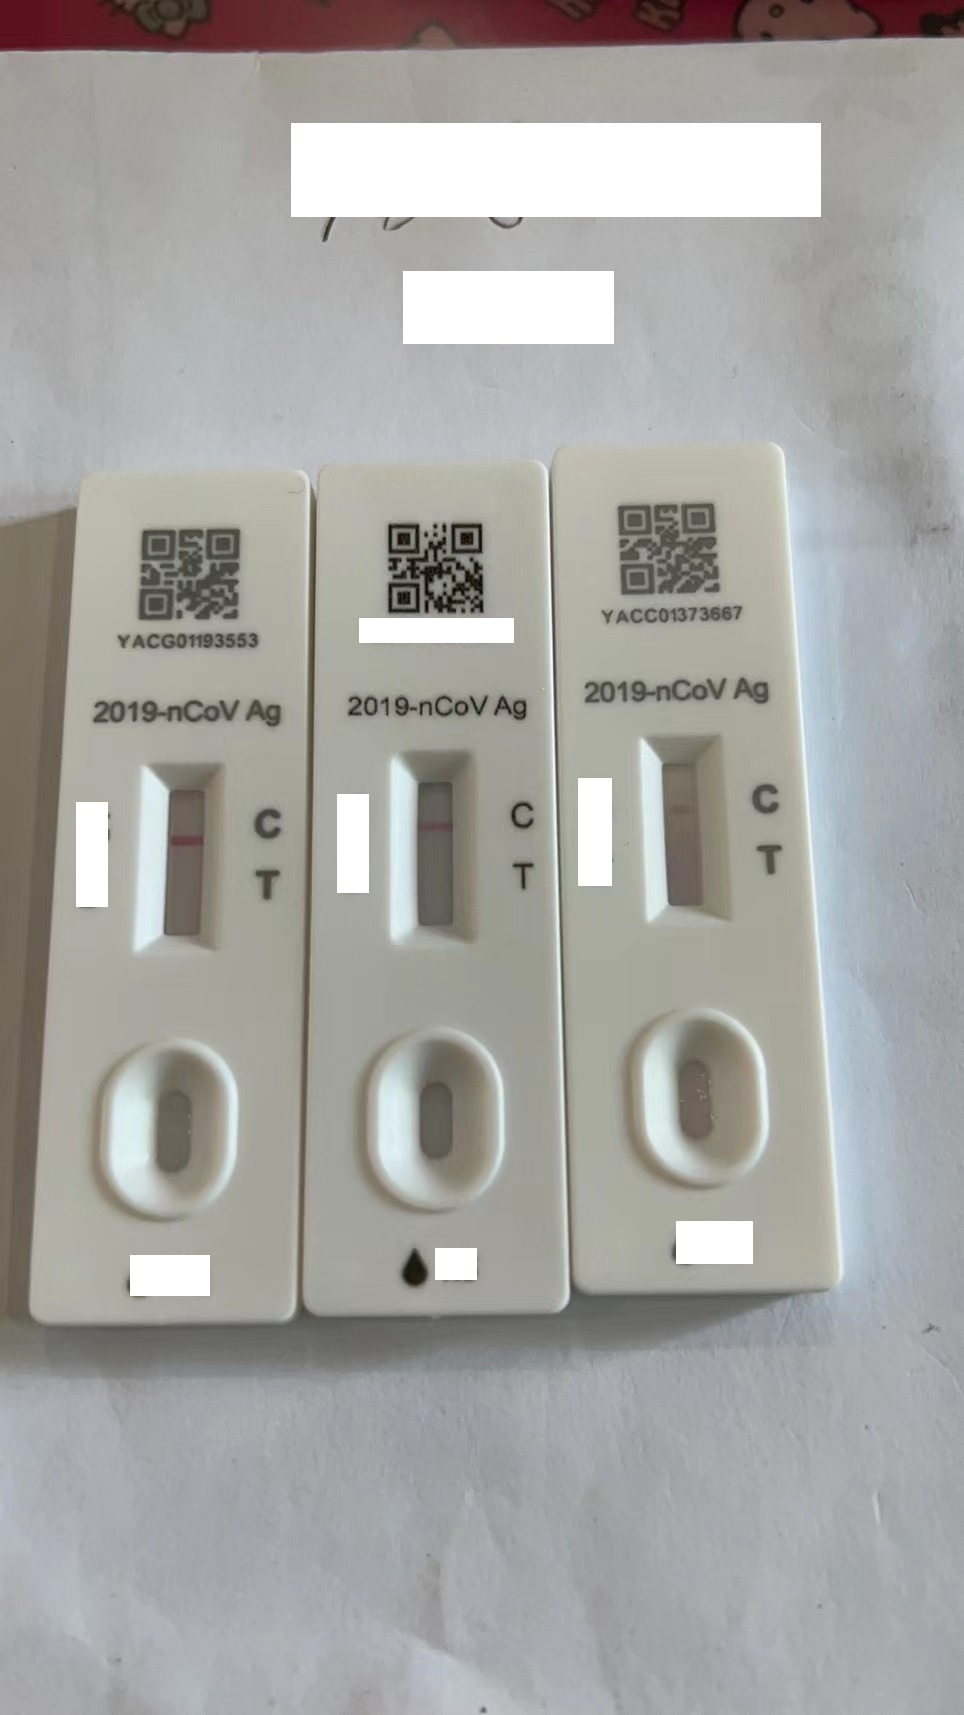negative: (394, 751, 478, 943), (642, 733, 727, 922), (141, 759, 222, 955)
